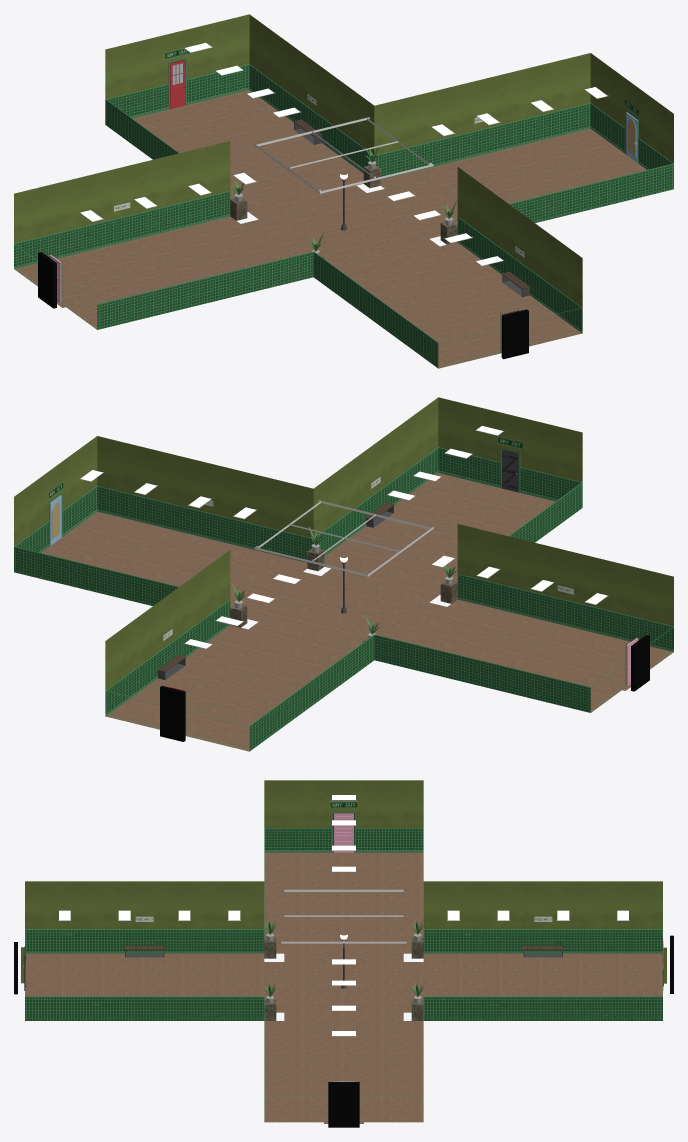
The model's file is rdwe_crossroads.glb.
3 views of the same model, one above another, from view 1: azimuth 30°, elevation 25°; view 2: azimuth 150°, elevation 25°; view 3: azimuth 270°, elevation 25° (orthographic). The views are drawn at different scales.
Visible parts, largest first — view 1: Terrazzo, Paint_Acid, Tile_Green, Trim_Green, Lamp_Emit, Void_Black, Trim_White, Concrete_Planter, DoorLeaf_north, Iron, Signs_Cross; view 2: Terrazzo, Paint_Acid, Tile_Green, Trim_Green, Lamp_Emit, Void_Black, Trim_White, Concrete_Planter, DoorLeaf_south, Signs_Cross, Iron; view 3: Terrazzo, Paint_Acid, Tile_Green, Trim_Green, Lamp_Emit, Void_Black, Trim_White, Concrete_Planter, DoorLeaf_west.
Boxes of the visible parts, box(x1,y1,x2,y2) form: Terrazzo: box(14, 90, 646, 368); Paint_Acid: box(14, 14, 673, 332); Tile_Green: box(14, 65, 673, 367); Trim_Green: box(14, 58, 673, 366); Lamp_Emit: box(80, 43, 607, 265); Void_Black: box(38, 60, 528, 359); Trim_White: box(79, 47, 608, 265); Concrete_Planter: box(230, 165, 457, 258); DoorLeaf_north: box(170, 60, 184, 109); Iron: box(294, 122, 529, 297); Signs_Cross: box(114, 48, 638, 257); Terrazzo: box(41, 473, 673, 751); Paint_Acid: box(14, 397, 673, 715); Tile_Green: box(14, 448, 673, 750); Trim_Green: box(14, 447, 673, 749); Lamp_Emit: box(80, 426, 607, 648); Void_Black: box(160, 449, 649, 741); Trim_White: box(79, 430, 608, 648); Concrete_Planter: box(230, 548, 457, 641); DoorLeaf_south: box(501, 449, 518, 492); Signs_Cross: box(49, 436, 573, 640); Iron: box(158, 505, 393, 680); Terrazzo: box(25, 851, 662, 1123); Paint_Acid: box(21, 780, 666, 983); Tile_Green: box(25, 829, 662, 1020); Trim_Green: box(25, 811, 662, 1119); Lamp_Emit: box(59, 795, 628, 1035); Void_Black: box(14, 813, 673, 1127); Trim_White: box(58, 800, 629, 1036); Concrete_Planter: box(264, 937, 423, 1020); DoorLeaf_west: box(334, 813, 353, 852).
Bounding box in the file's own units: 33.1 × 4.05 × 33.1.
22 materials, 8 textured.
